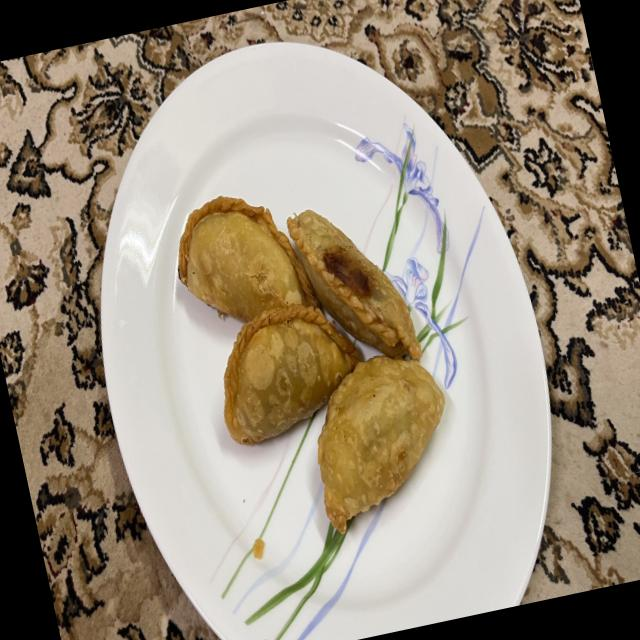karipap: (317, 355, 445, 533), (287, 209, 421, 359), (224, 304, 359, 443), (177, 195, 318, 322)
